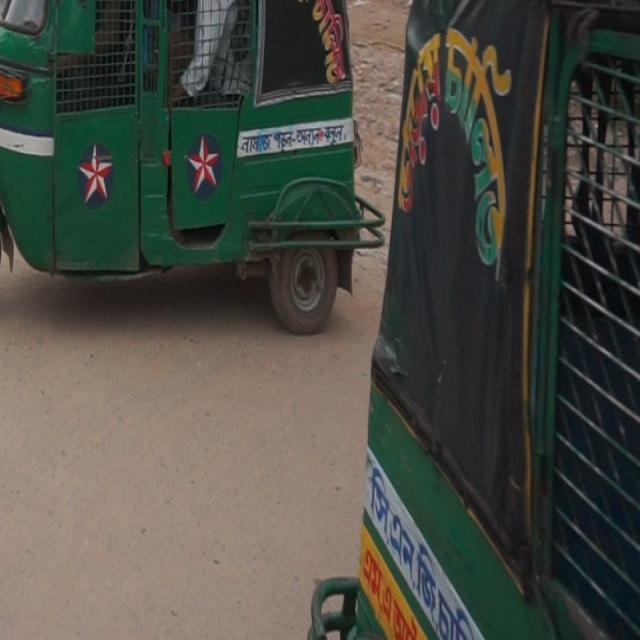rickshaw: (0, 0, 378, 360)
